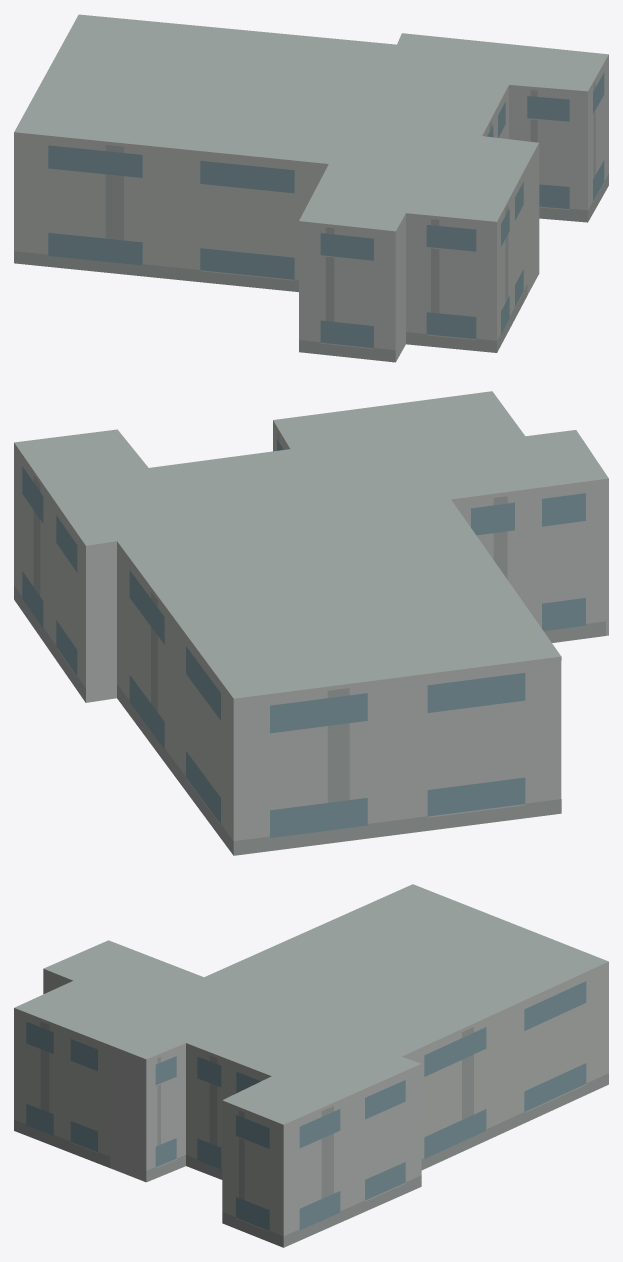
File: survey-upis-32521047.glb
3 views of the same model, one above another, from view 1: azimuth 30°, elevation 25°; view 2: azimuth 150°, elevation 25°; view 3: azimuth 270°, elevation 25° (orthographic). The views are drawn at different scales.
Visible parts, largest first — view 1: survey-upis-32521047.tmp; view 2: survey-upis-32521047.tmp; view 3: survey-upis-32521047.tmp.
Part boxes in pixels (x1,y1,x2,y2): survey-upis-32521047.tmp: [14, 14, 608, 362]; survey-upis-32521047.tmp: [14, 391, 608, 855]; survey-upis-32521047.tmp: [14, 884, 608, 1247].
Size of the model in its own units: 38.41 by 9.15 by 40.12.
